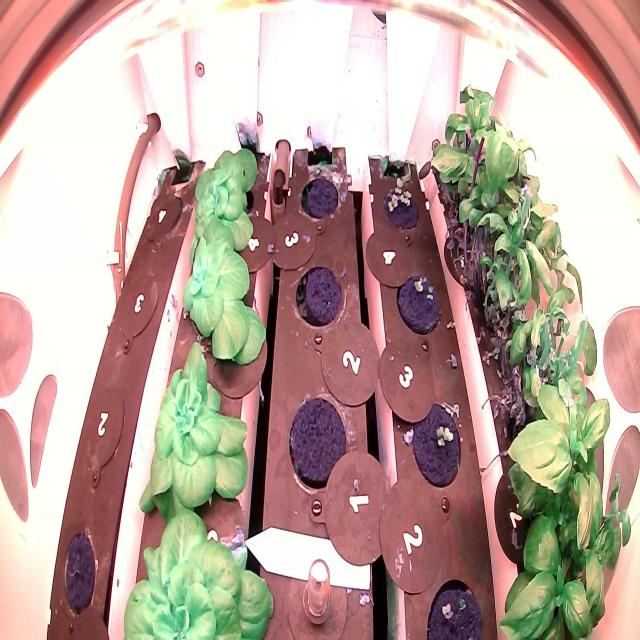empty_pod: (76, 380, 126, 489), (110, 264, 158, 358), (139, 178, 184, 254)
germination: (408, 383, 470, 494), (417, 561, 489, 640), (394, 257, 446, 344), (376, 170, 424, 237)
pod: (281, 389, 352, 506), (294, 255, 349, 330), (60, 521, 100, 615), (296, 172, 342, 228)
young: (134, 334, 271, 522), (120, 505, 283, 639), (174, 218, 270, 374), (189, 132, 267, 256)
